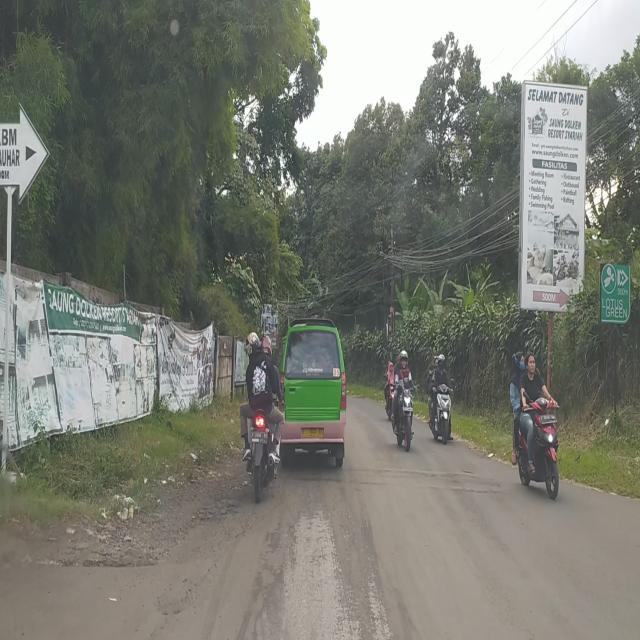Drain Hole: (200, 489, 246, 528)
